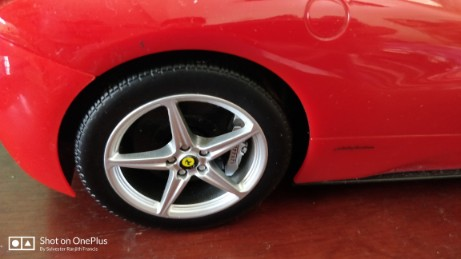aligned_wheel: (72, 56, 293, 231)
